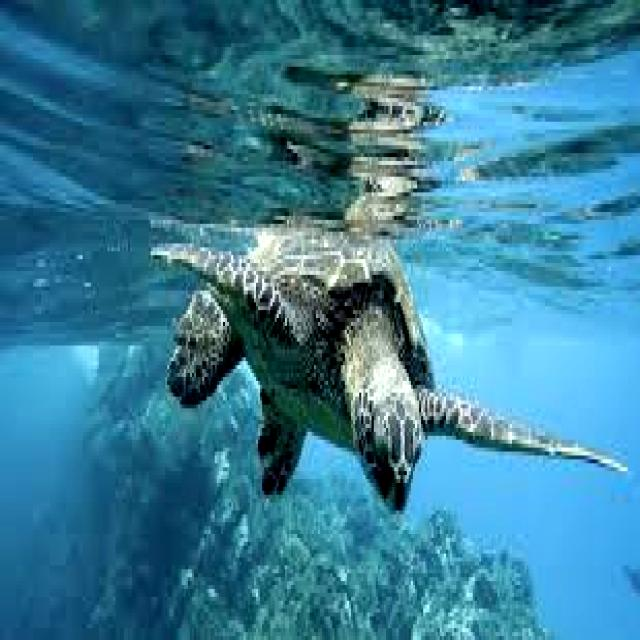Sea turtle: (148, 221, 632, 509)
